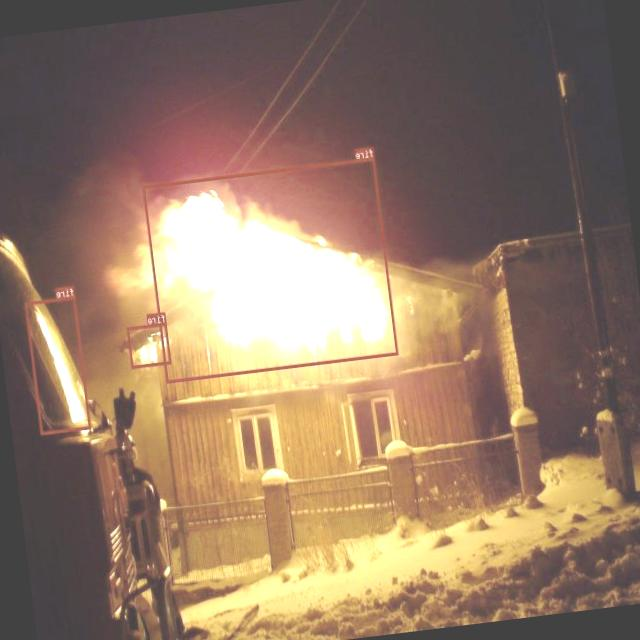fire: (142, 156, 399, 382), (24, 295, 92, 434), (126, 321, 172, 368)
